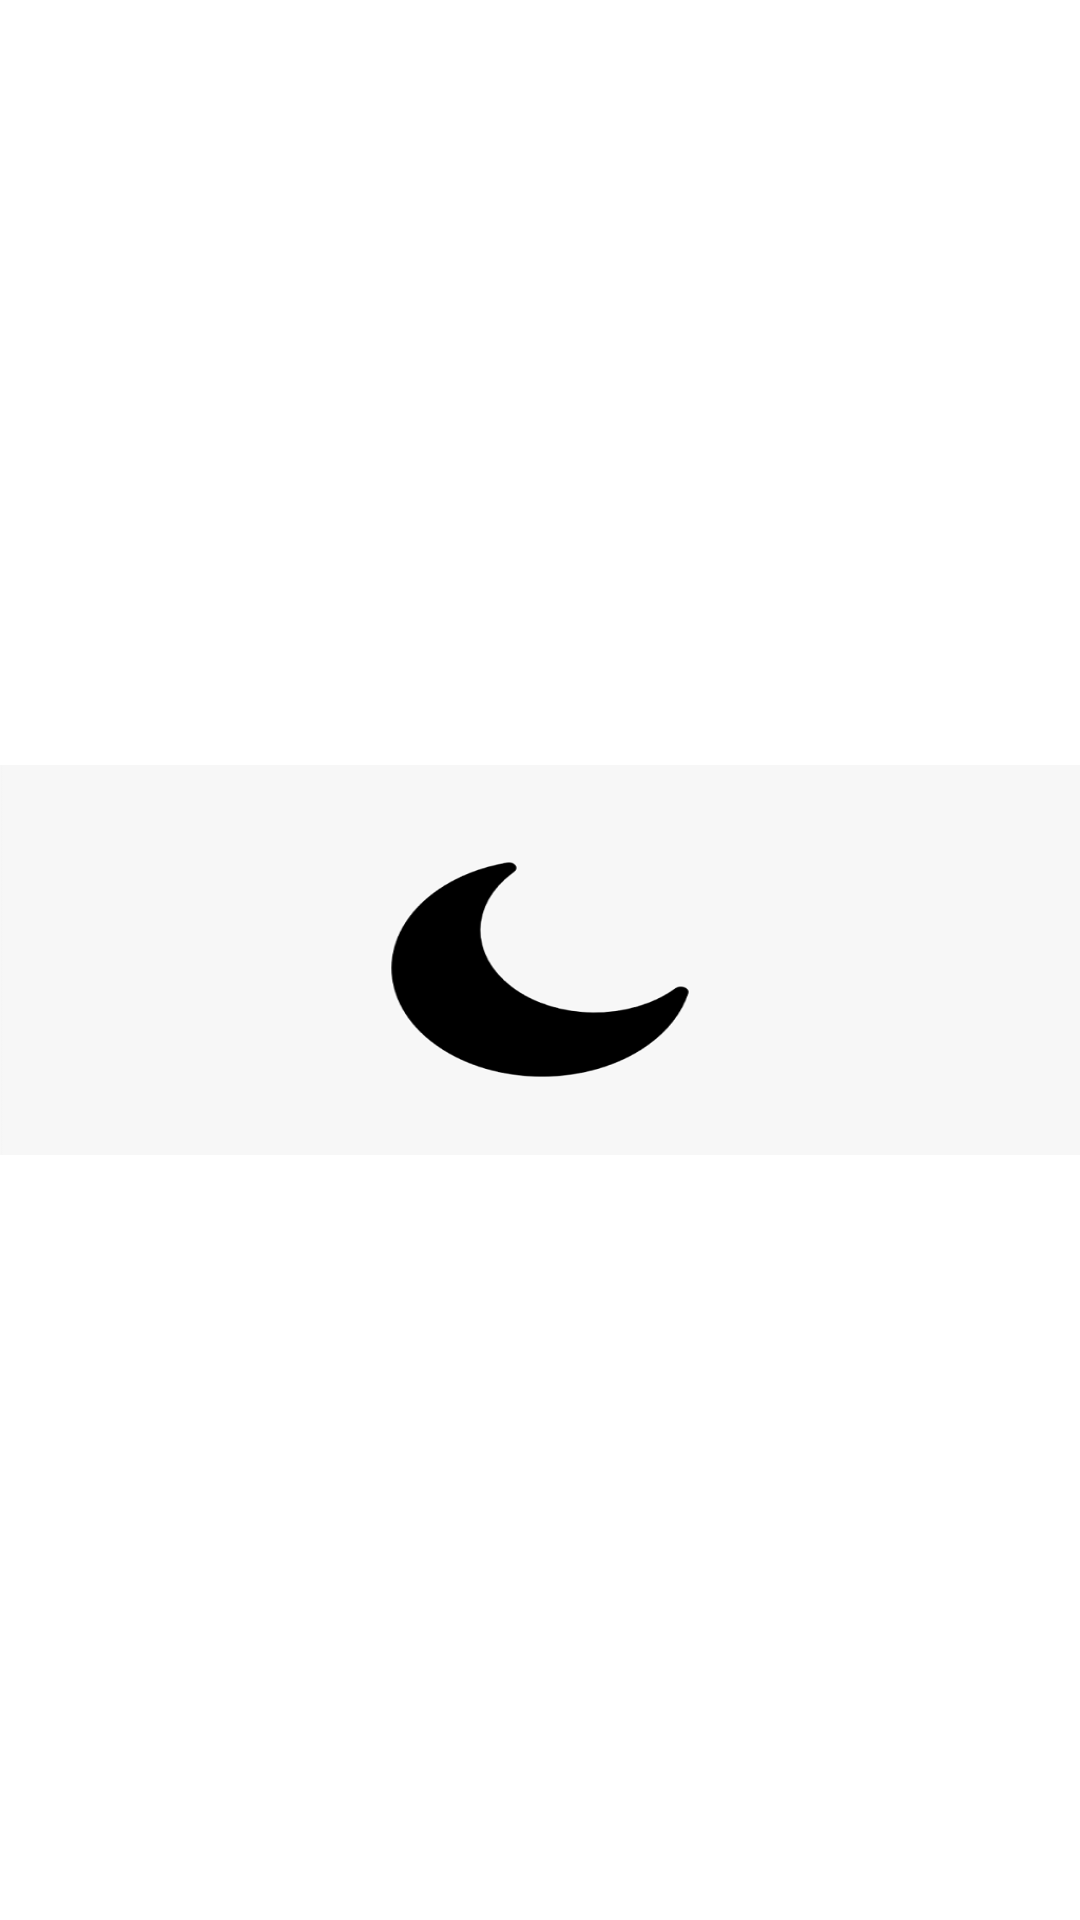

Point at icon controls on the screen. Image size 1080 × 1920, points as point (x, y).
night: point (540, 969)
